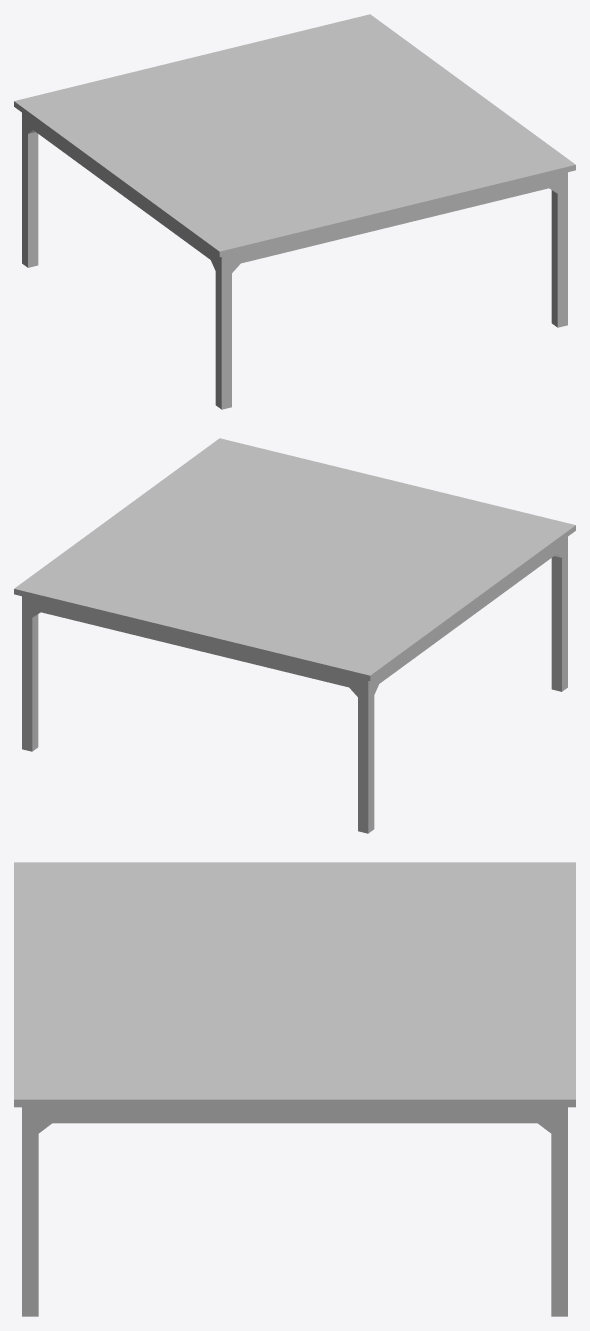
File: table3.FBX
3 views of the same model, one above another, from view 1: azimuth 30°, elevation 25°; view 2: azimuth 150°, elevation 25°; view 3: azimuth 270°, elevation 25° (orthographic). The views are drawn at different scales.
Parts seen in each view (by area): view 1: table3; view 2: table3; view 3: table3.
Part boxes in pixels (bbox=[...]): table3: bbox=[14, 14, 575, 409]; table3: bbox=[14, 438, 575, 833]; table3: bbox=[14, 862, 575, 1316].
Size of the model in its own units: 177 by 76.5 by 177.
